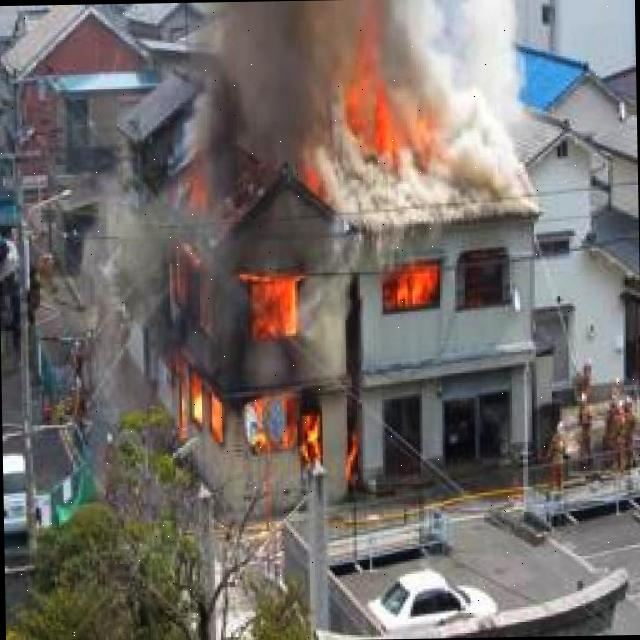fire: (178, 172, 370, 500), (334, 56, 442, 164), (379, 262, 449, 319)
